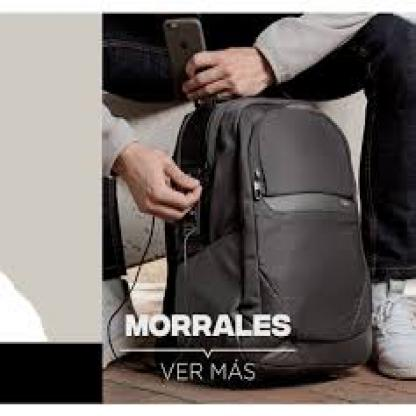morral: (149, 80, 397, 381)
